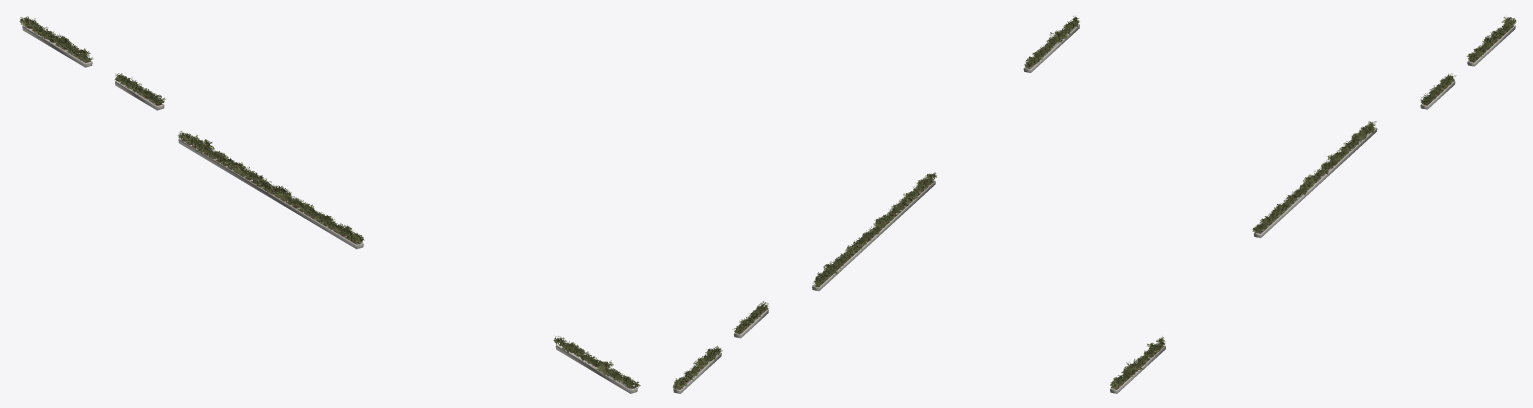
3 renders of one model, left to right at view 1: azimuth 30°, elevation 25°; view 2: azimuth 150°, elevation 25°; view 3: azimuth 330°, elevation 25°, orthographic. The views are drawn at different scales.
Visible parts, largest first — view 1: Distant promenade shrubs, Planting trough, Promenade shrub leaves and branches; view 2: Distant promenade shrubs, Promenade shrub leaves and branches, Planting trough; view 3: Distant promenade shrubs, Promenade shrub leaves and branches, Planting trough.
Part boxes in pixels (x1,y1,x2,y2): Distant promenade shrubs: (19,16,640,388); Planting trough: (22,26,637,393); Promenade shrub leaves and branches: (23,16,636,388); Distant promenade shrubs: (672,16,1079,389); Promenade shrub leaves and branches: (674,18,1079,389); Planting trough: (673,24,1079,393); Distant promenade shrubs: (1110,17,1516,390); Promenade shrub leaves and branches: (1110,18,1514,388); Planting trough: (1110,25,1515,393).
Size of the model in its own units: 6.82 by 1.01 by 62.71.
Materials: 4 (3 with a texture image).
